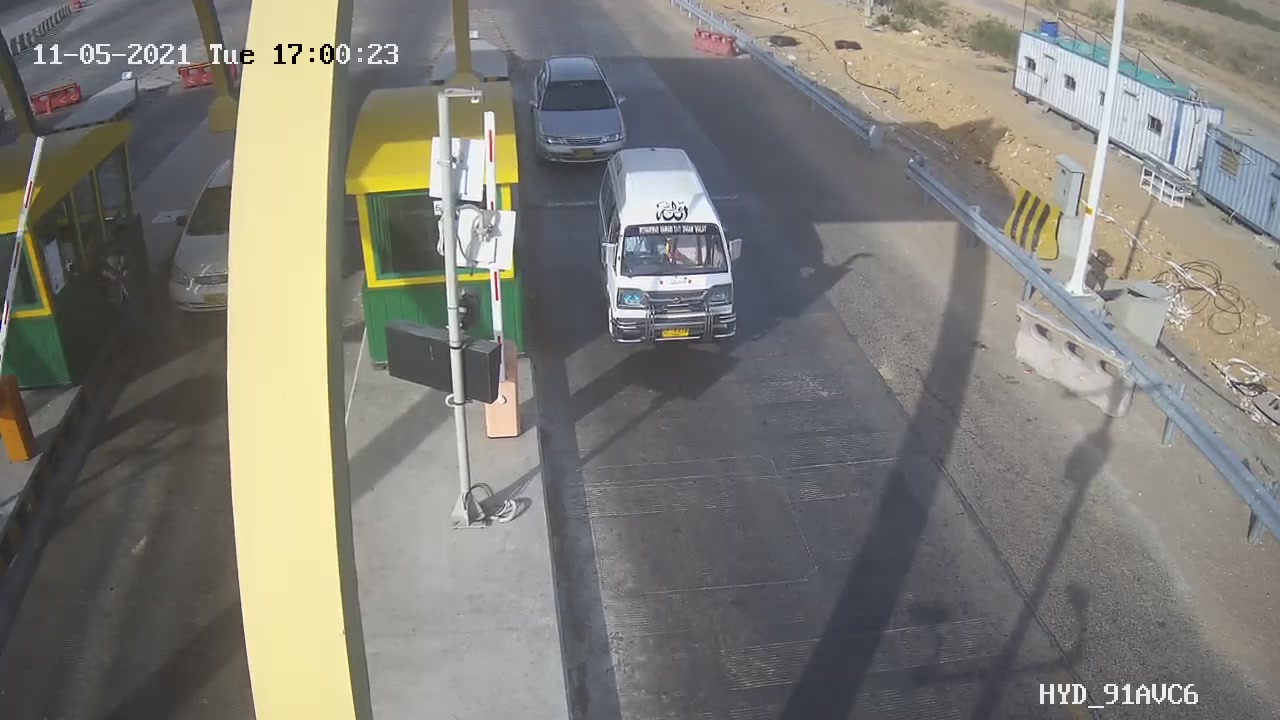F1: (583, 131, 761, 365), (514, 43, 652, 186)
